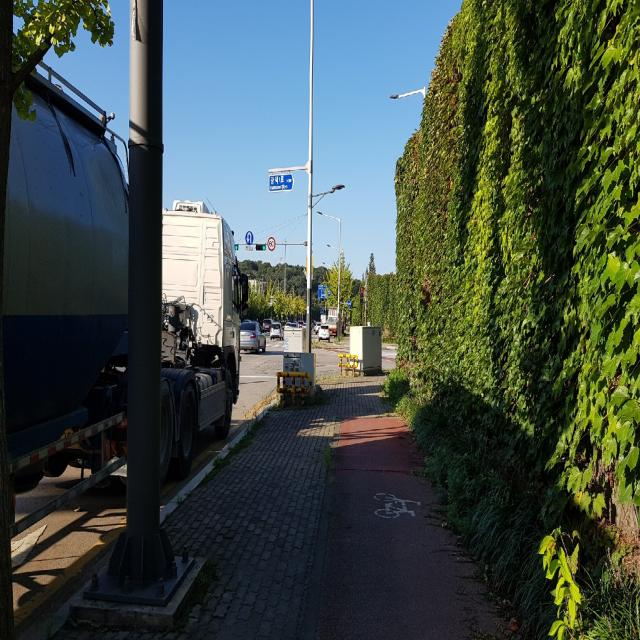빨간불: (360, 286, 364, 304)
